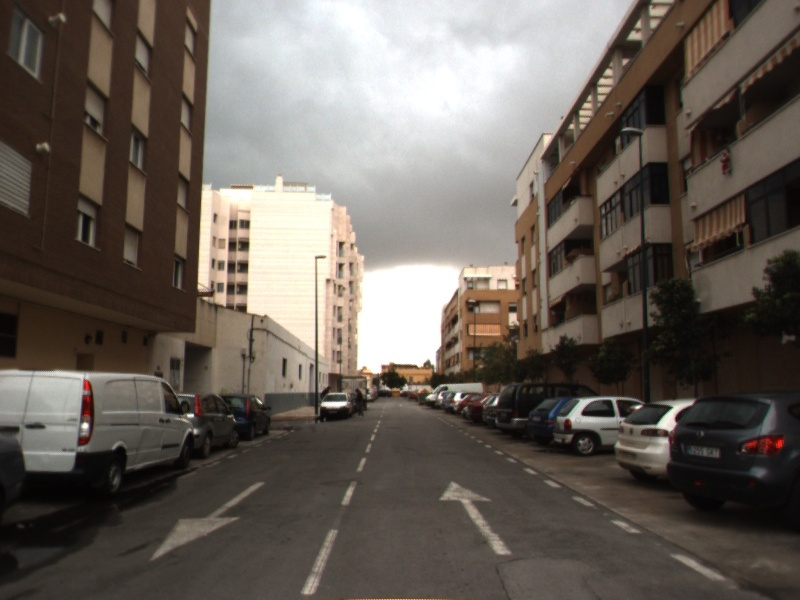STRAIGHT: (437, 479, 515, 557)
